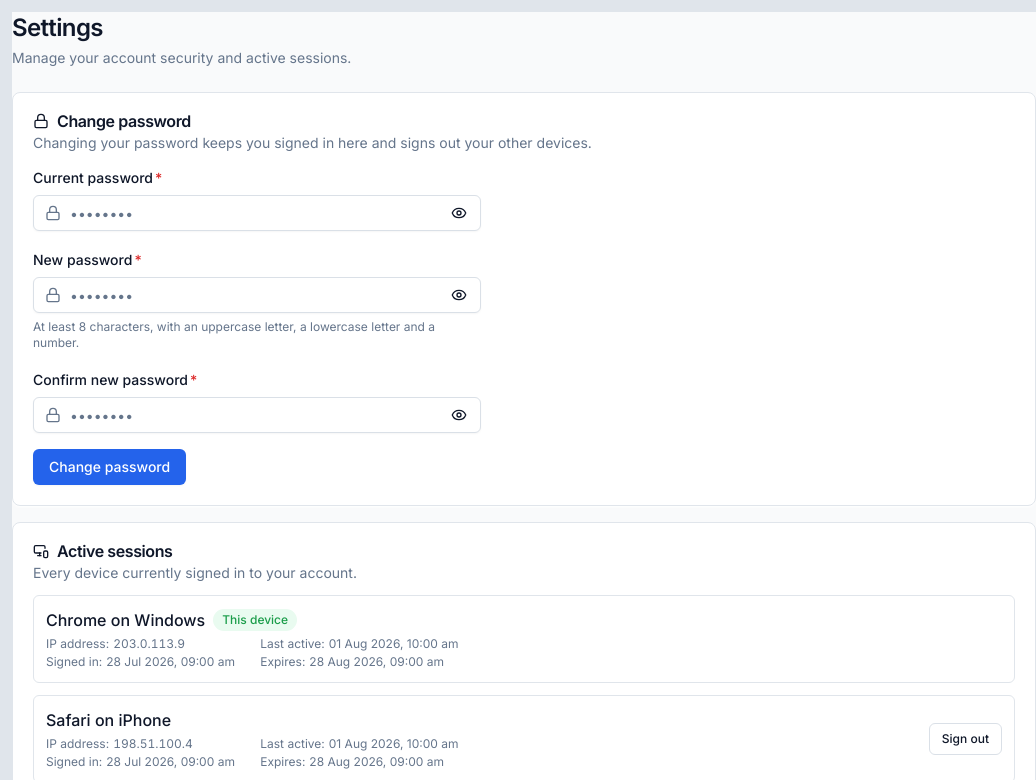
Test: Student settings page › shows a server error without a field path as a form message
In the password field labelled "Current password*": (257, 213) x1=33 y1=195 x2=481 y2=231, type "OldPassw0rd"
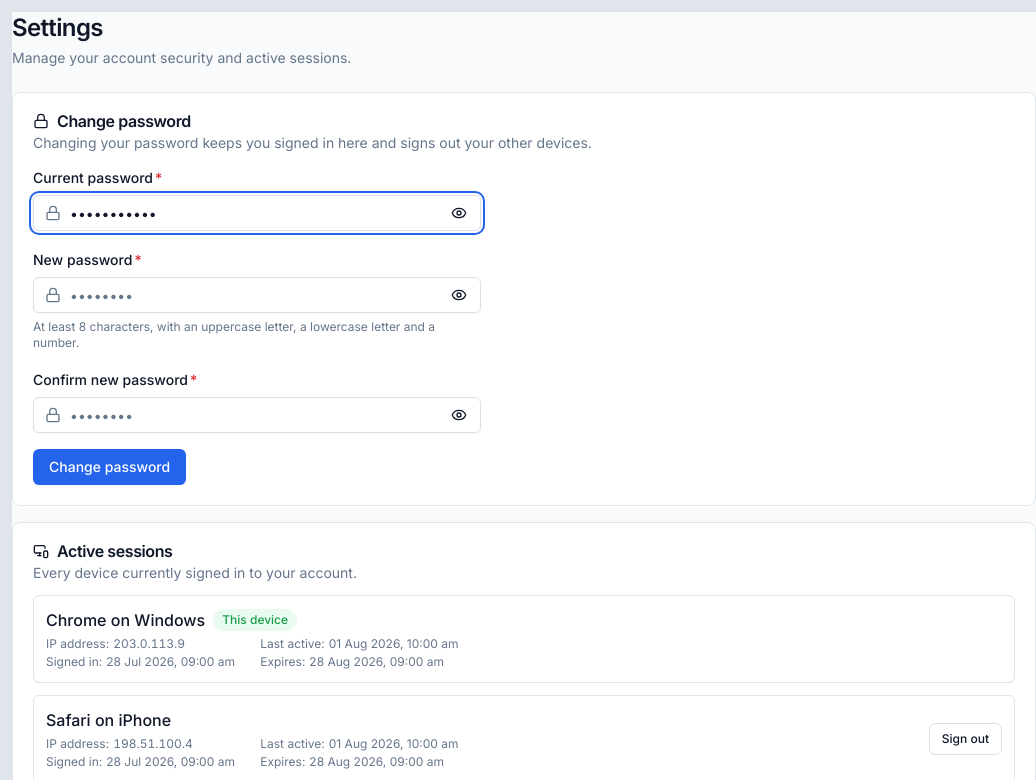
In the password field labelled "New password*": (257, 295) x1=33 y1=277 x2=481 y2=313, type "NewPassw0rd"
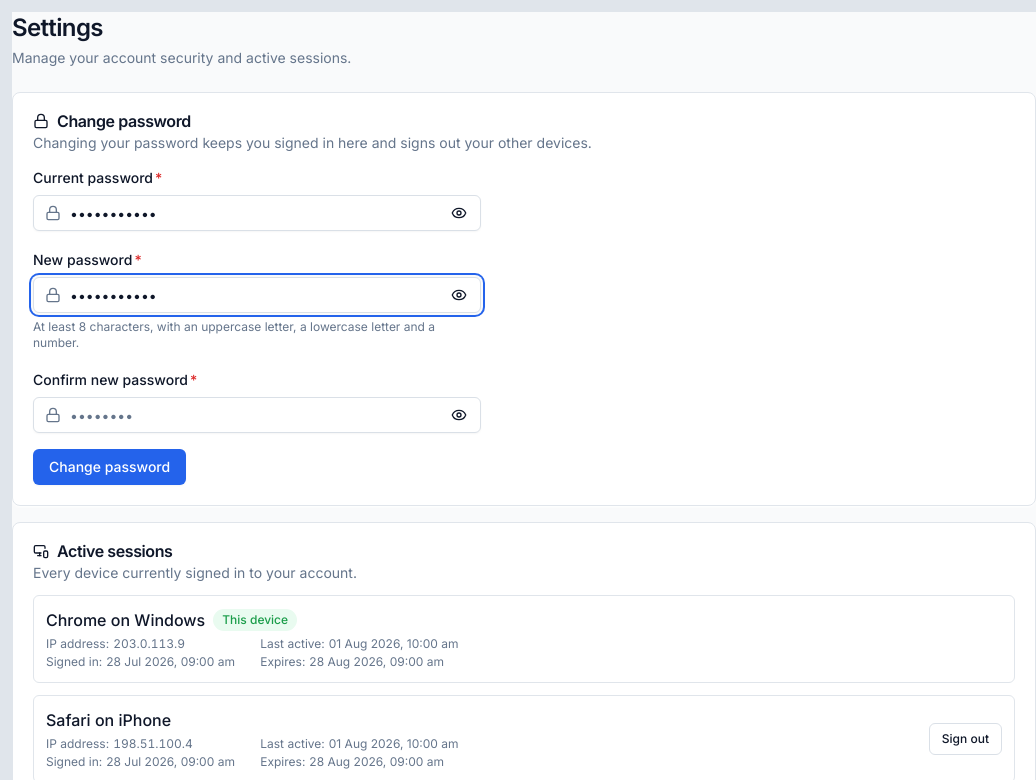
In the password field labelled "Confirm new password*": (257, 415) x1=33 y1=397 x2=481 y2=433, type "NewPassw0rd"
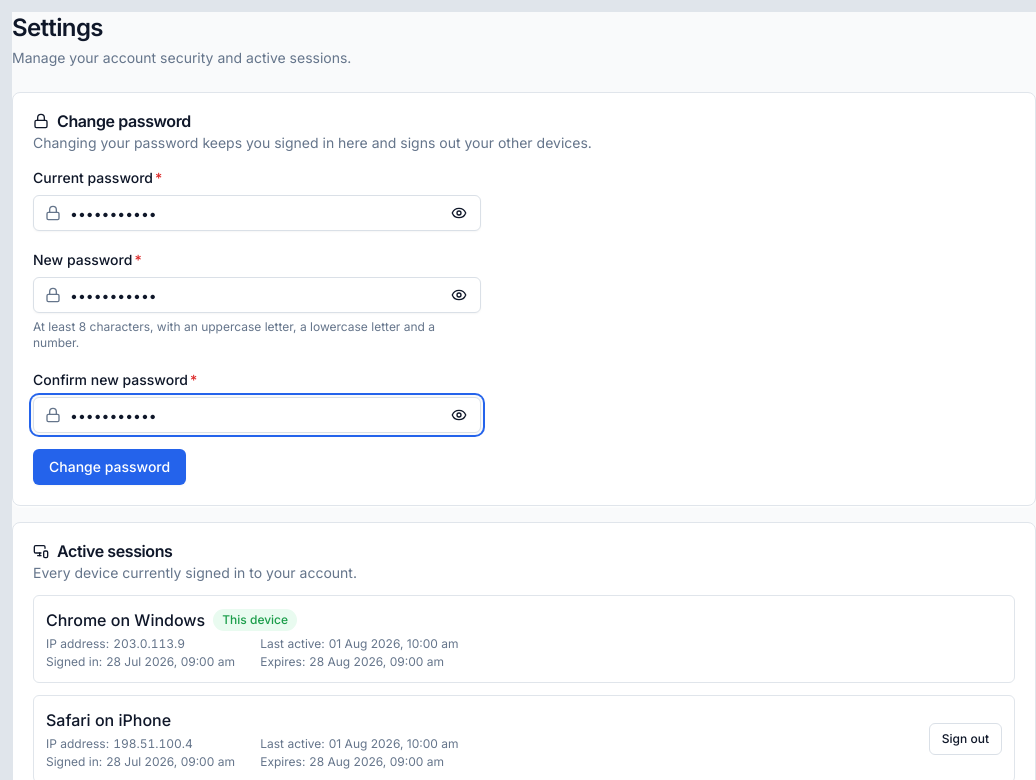
Click the button "Change password": (110, 467) x1=33 y1=449 x2=186 y2=485
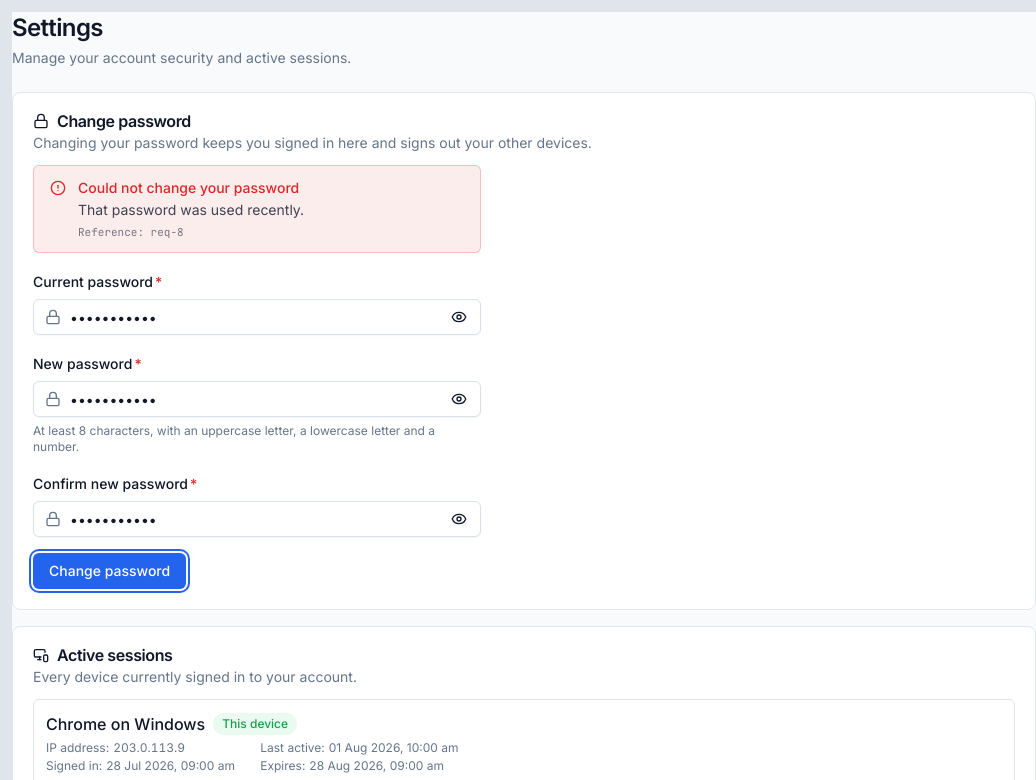
Expected: the text "That password was used recently." is shown, x1=78 y1=201 x2=304 y2=218
